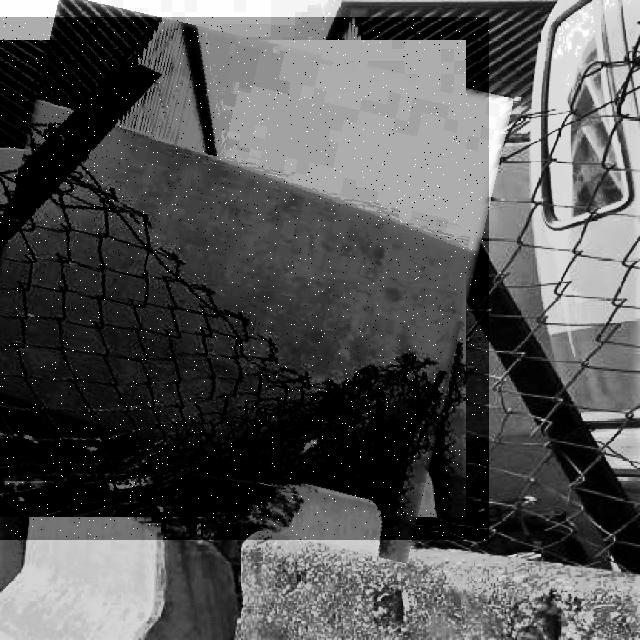anomaly-fence: (0, 17, 489, 540)
